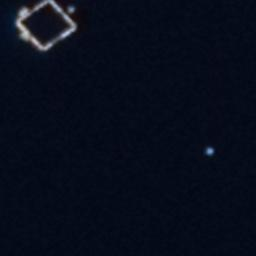square_solid: (15, 1, 80, 56)
